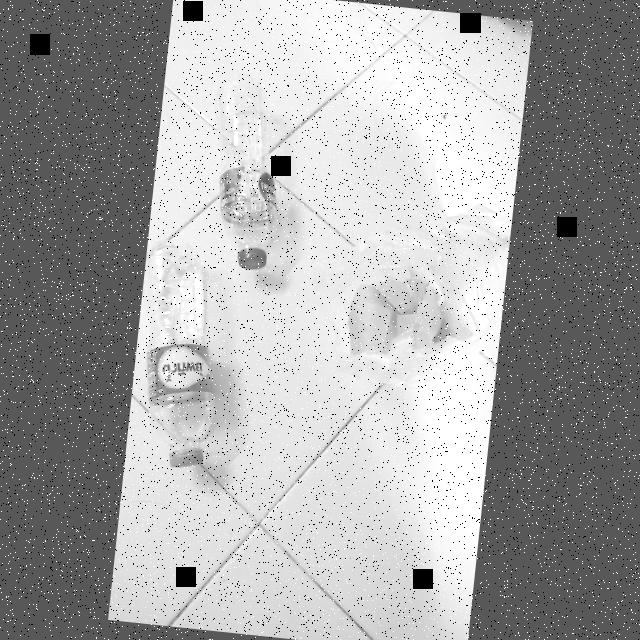plastic_bag: (294, 174, 514, 399)
plastic_bottle: (123, 232, 242, 480), (192, 59, 300, 288)
plastic_bottle_cap: (158, 441, 208, 482), (234, 240, 272, 276)
